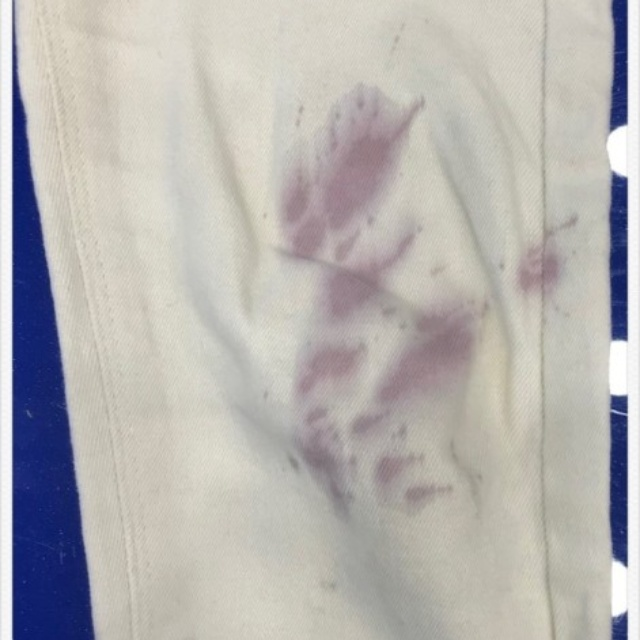wine: (268, 66, 419, 299)
